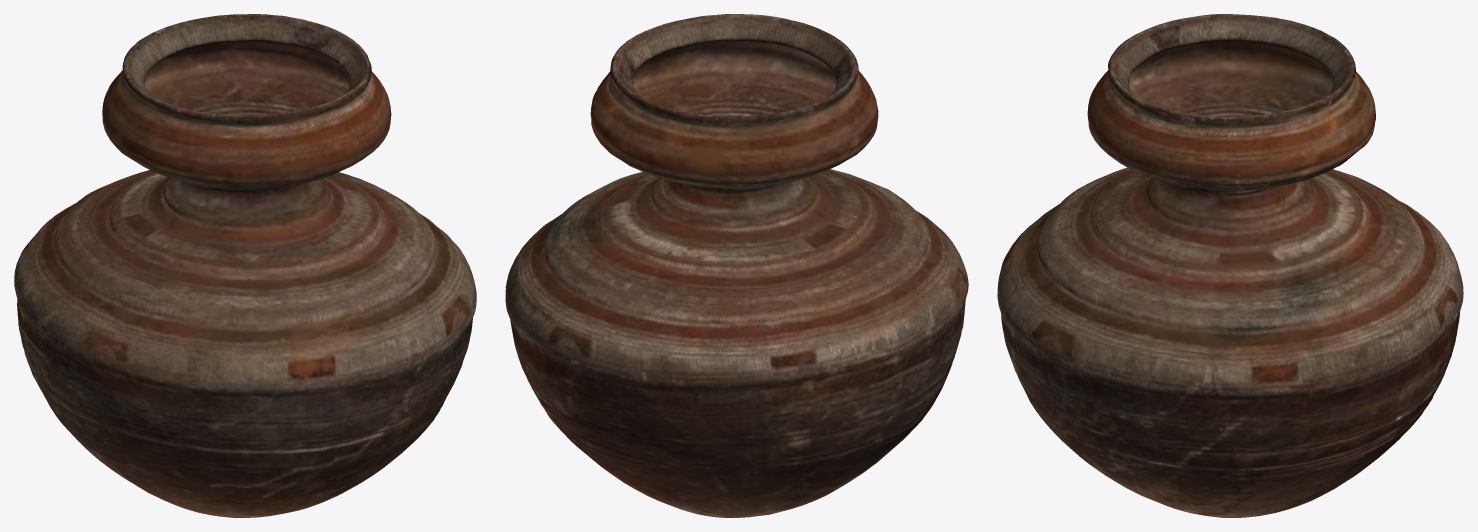
Rendered from cma-nupe-water-transport-jar.glb.
3 renders of one model, left to right at view 1: azimuth 30°, elevation 25°; view 2: azimuth 150°, elevation 25°; view 3: azimuth 270°, elevation 25°, orthographic.
Parts seen in each view (by area): view 1: 1995.210_jar; view 2: 1995.210_jar; view 3: 1995.210_jar.
Boxes of the visible parts, x1,y1,x2,y2 form: 1995.210_jar: [14, 14, 476, 517]; 1995.210_jar: [505, 14, 968, 517]; 1995.210_jar: [997, 14, 1463, 517].
Bounding box in the file's own units: 0.3554 × 0.369 × 0.3578.
1 material, 1 textured.
